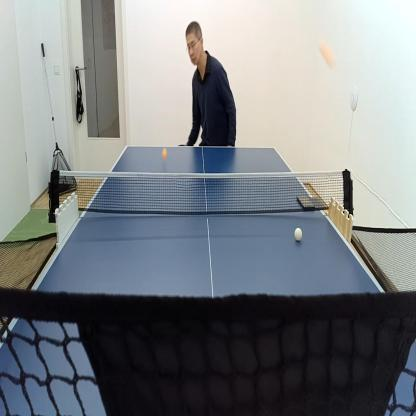Ball: (318, 40, 336, 71), (294, 225, 303, 243), (161, 146, 168, 162)
